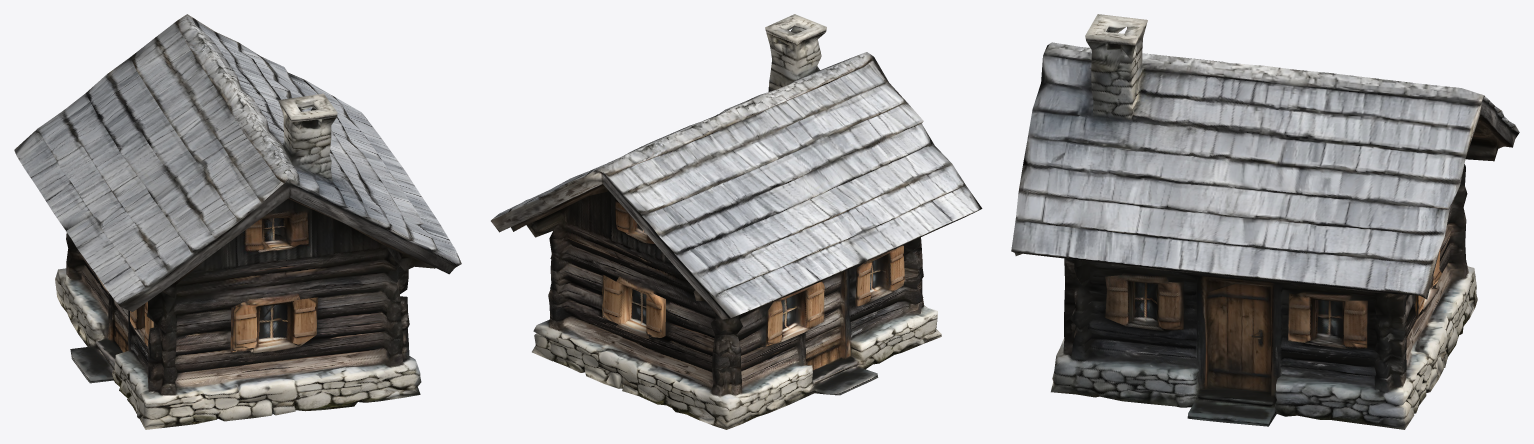
File: alpine_hut_tripo.glb
The picture shows the model from 3 angles, left to right: view 1: azimuth 30°, elevation 25°; view 2: azimuth 150°, elevation 25°; view 3: azimuth 270°, elevation 25°; orthographic projection. The views are drawn at different scales.
Parts seen in each view (by area): view 1: tripo_node_0fa26d3f-bbd0-4606-b3fa-737a9187ffca; view 2: tripo_node_0fa26d3f-bbd0-4606-b3fa-737a9187ffca; view 3: tripo_node_0fa26d3f-bbd0-4606-b3fa-737a9187ffca.
Part boxes in pixels (box(x1,y1,x2,y2)): tripo_node_0fa26d3f-bbd0-4606-b3fa-737a9187ffca: box(14, 14, 461, 429); tripo_node_0fa26d3f-bbd0-4606-b3fa-737a9187ffca: box(491, 14, 982, 429); tripo_node_0fa26d3f-bbd0-4606-b3fa-737a9187ffca: box(1011, 14, 1519, 429).
Bounding box in the file's own units: 0.9356 × 0.6815 × 0.9754.
1 material, 1 textured.
